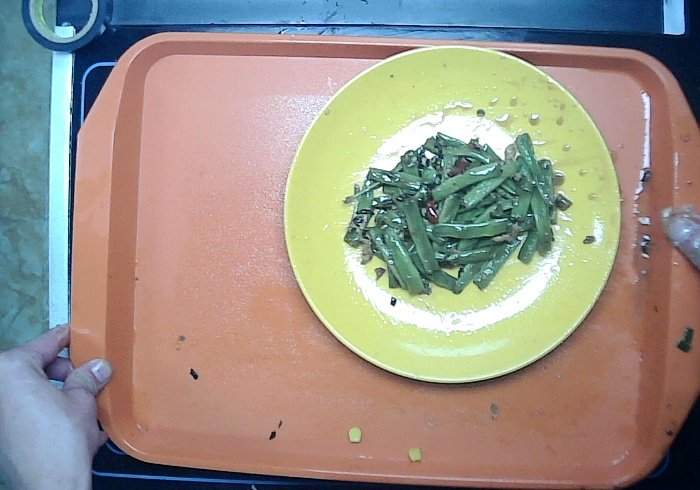HZYJPL-Huang_Se_Yuan_Pan: (281, 43, 623, 384)
